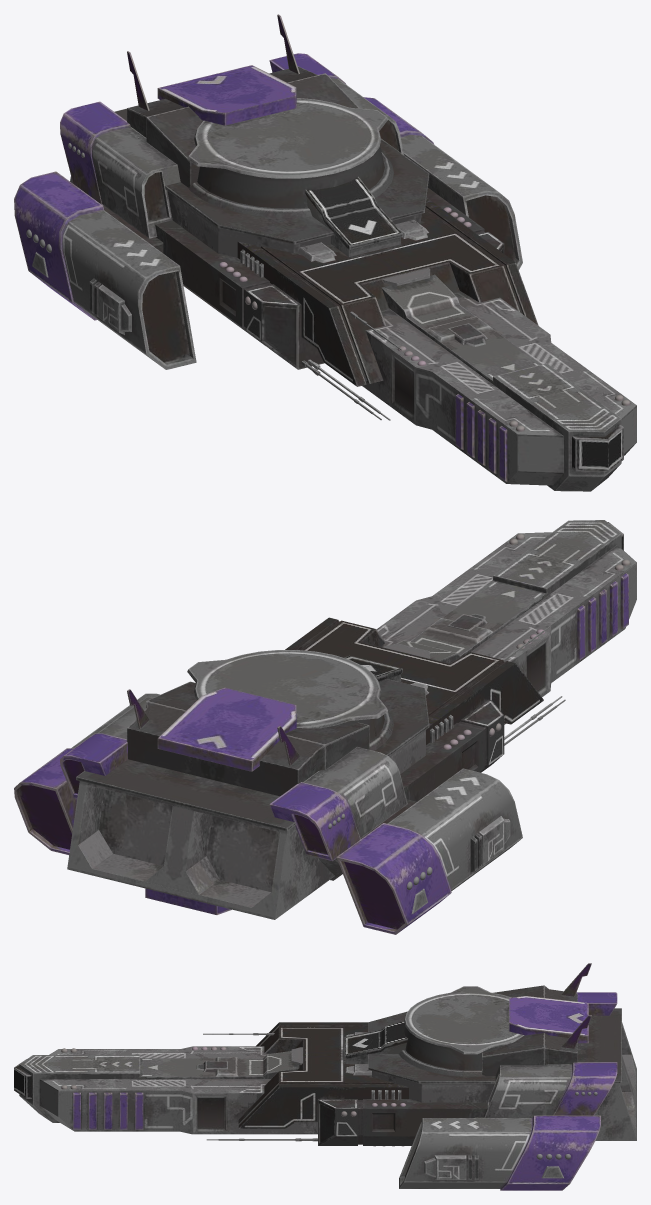
Rendered from insurgent_purple.glb.
3 views of the same model, one above another, from view 1: azimuth 30°, elevation 25°; view 2: azimuth 150°, elevation 25°; view 3: azimuth 270°, elevation 25° (orthographic). The views are drawn at different scales.
Visible parts, largest first — view 1: insurgent; view 2: insurgent; view 3: insurgent.
Part boxes in pixels (x1,y1,x2,y2): insurgent: (14, 14, 636, 491); insurgent: (14, 520, 636, 934); insurgent: (14, 963, 636, 1190).
Size of the model in its own units: 5.57 by 2.87 by 10.95.
1 material, 1 textured.
